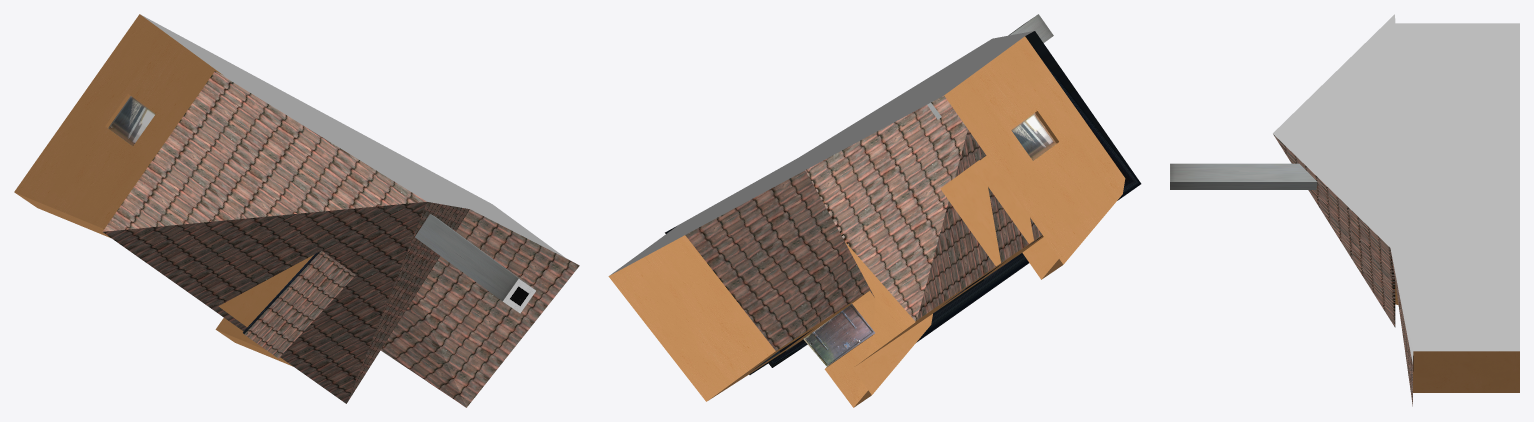
Rendered from Pikk_29a_2.obj.
The picture shows the model from 3 angles, left to right: view 1: azimuth 30°, elevation 25°; view 2: azimuth 150°, elevation 25°; view 3: azimuth 270°, elevation 25°; orthographic projection. The views are drawn at different scales.
Visible parts, largest first — view 1: Pikk_29a_2; view 2: Pikk_29a_2; view 3: Pikk_29a_2.
Boxes of the visible parts, x1,y1,x2,y2 form: Pikk_29a_2: (14,14,579,407); Pikk_29a_2: (608,14,1141,407); Pikk_29a_2: (1170,14,1519,406).
Bounding box in the file's own units: 13.18 × 10.49 × 11.09.
